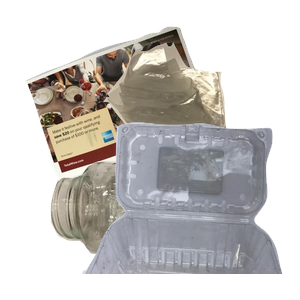glass: (48, 156, 260, 300)
paper: (23, 24, 232, 199)
plastic: (80, 120, 300, 300)
trash: (101, 40, 300, 192)
